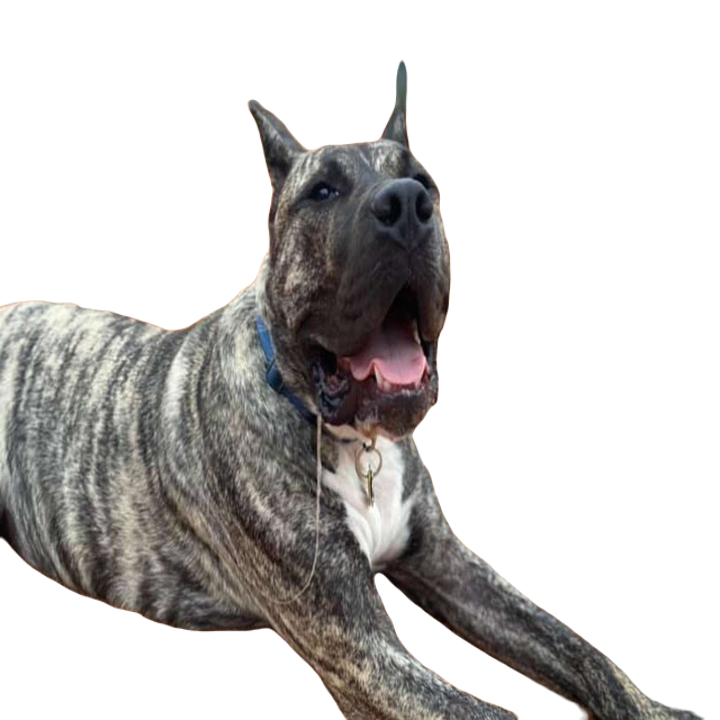Dog: (0, 57, 701, 714)
